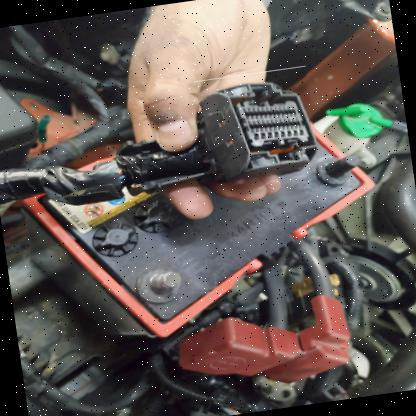Connector: (190, 65, 318, 189)
